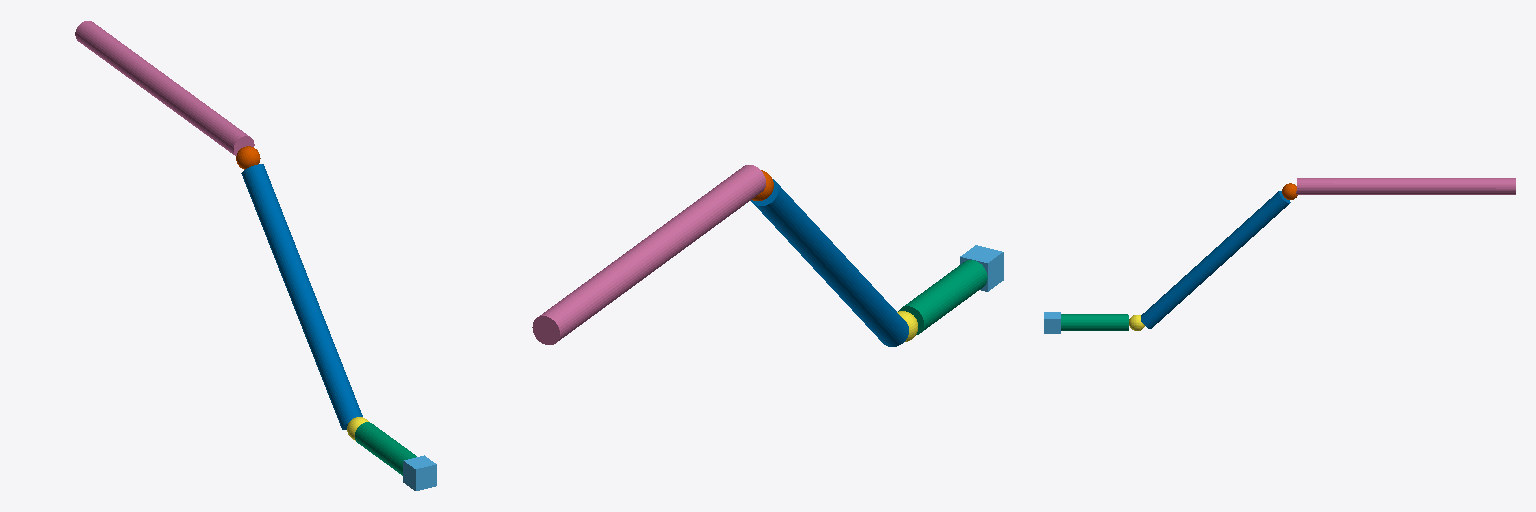
The robot description file, URDF, robot "Hexapod":
<?xml version="1.0" ?>
<!-- =================================================================================== -->
<!-- |    This document was autogenerated by xacro from Hexapoda.urdf.xacro            | -->
<!-- |    EDITING THIS FILE BY HAND IS NOT RECOMMENDED                                 | -->
<!-- =================================================================================== -->
<robot name="Hexapod">
  <gazebo reference="base_link">
    <material>Gazebo/Red</material>
  </gazebo>
  <gazebo reference="coxa_base_1">
    <material>Gazebo/Black</material>
  </gazebo>
  <gazebo reference="femur_base_1">
    <material>Gazebo/Black</material>
  </gazebo>
  <gazebo reference="tibia_base_1">
    <material>Gazebo/Black</material>
  </gazebo>
  <!-- 75mm taken cause 82mm was too outside of the base-->
  <link name="base_link">
    <inertial>
      <origin rpy="0.0 0.0 0.0" xyz="2.3553741432180777e-07 2.224092921723409e-05 0.003026303676307155"/>
      <mass value="0.7689223035628137"/>
      <inertia ixx="0.0010390137355587251" ixy="2.966445125900137e-10" ixz="-2.2246256263541832e-10" iyy="0.0010400150822437112" iyz="4.4983354420999026e-10" izz="0.0020742729104693478"/>
    </inertial>
    <visual>
      <origin rpy="0.0 0.0 0" xyz="0.0 0.0 0.0"/>
      <geometry>
        <!-- file:///$(find arm_03)/description/meshes/armA/armA_0.stl
                package://hexapod_rviz/meshes/Body.stl  -->
        <mesh filename="file:///[local-path]/ros2_sim/install/hexapod/share/hexapod/models/hexagon.stl" scale="0.001 0.001 0.001"/>
      </geometry>
    </visual>
    <collision>
      <origin rpy="0.0 0.0 0" xyz="0.0 0.0 0.0"/>
      <geometry>
        <mesh filename="file:///[local-path]/ros2_sim/install/hexapod/share/hexapod/models/hexagon.stl" scale="0.001 0.001 0.001"/>
      </geometry>
    </collision>
  </link>
  <link name="servo1_1">
    <visual>
      <origin rpy="0 0 0" xyz="0 0 0"/>
      <geometry>
        <box size="0.01 0.01 0.01"/>
      </geometry>
    </visual>
    <collision>
      <origin rpy="0 0 0" xyz="0 0 0"/>
      <geometry>
        <box size="0.01 0.01 0.01"/>
      </geometry>
    </collision>
    <inertial>
      <origin rpy="0.0 0.0 0.0" xyz="0 0 0"/>
      <mass value="0.07"/>
      <inertia ixx="1.1666666666666668e-06" ixy="0" ixz="0" iyy="1.1666666666666668e-06" iyz="0" izz="1.1666666666666668e-06"/>
    </inertial>
  </link>
  <joint name="servo_base_1" type="fixed">
    <parent link="base_link"/>
    <child link="servo1_1"/>
    <origin rpy="1.57 0 0.0" xyz="0.0 0.075 0.01"/>
  </joint>
  <link name="coxa_1">
    <visual>
      <origin rpy="0 0 0" xyz="0 0 -0.02"/>
      <geometry>
        <cylinder length="0.04" radius="0.005"/>
      </geometry>
    </visual>
    <collision>
      <origin rpy="0 0 0" xyz="0 0 -0.02"/>
      <geometry>
        <cylinder length="0.04" radius="0.005"/>
      </geometry>
    </collision>
    <inertial>
      <origin rpy="0 0 0" xyz="0 0 -0.02"/>
      <mass value="0.05"/>
      <inertia ixx="6.979166666666667e-06" ixy="0" ixz="0" iyy="6.979166666666667e-06" iyz="0" izz="6.25e-07"/>
    </inertial>
  </link>
  <joint name="coxa_base_1" type="revolute">
    <parent link="servo1_1"/>
    <child link="coxa_1"/>
    <!-- <origin xyz="${servo_length*d1} ${servo_length*d2} ${leg_radius*2}" rpy="1.57 ${pi * f} ${pi*ang}"/> -->
    <origin rpy="0 0.0 0.0" xyz="0.0 0.0 -0.005"/>
    <axis xyz="0 -1 0"/>
    <limit effort="100.0" lower="-0.7853981633974483" upper="0.7853981633974483" velocity="100.0"/>
  </joint>
  <link name="coxa_servo_1">
    <visual>
      <origin rpy="0 0 0" xyz="0 0 0"/>
      <geometry>
        <sphere radius="0.005"/>
      </geometry>
    </visual>
    <collision>
      <origin rpy="0 0 0" xyz="0 0 0"/>
      <geometry>
        <sphere radius="0.005"/>
      </geometry>
    </collision>
    <inertial>
      <origin rpy="0.0 0.0 0.0" xyz="0 0 0"/>
      <mass value="0.1"/>
      <inertia ixx="4.000000000000001e-06" ixy="0" ixz="0" iyy="4.000000000000001e-06" iyz="0" izz="4.000000000000001e-06"/>
    </inertial>
  </link>
  <joint name="coxa_servo_1" type="fixed">
    <parent link="coxa_1"/>
    <child link="coxa_servo_1"/>
    <origin rpy="0 0 0" xyz="0 0 -0.045"/>
  </joint>
  <link name="femur_1">
    <visual>
      <origin rpy="0 0 0" xyz="0 0 -0.0583"/>
      <geometry>
        <cylinder length="0.1166" radius="0.005"/>
      </geometry>
    </visual>
    <collision>
      <origin rpy="0 0 0" xyz="0 0 -0.0583"/>
      <geometry>
        <cylinder length="0.1166" radius="0.005"/>
      </geometry>
    </collision>
    <inertial>
      <origin rpy="0 0 0" xyz="0 0 -0.0583"/>
      <mass value="0.1"/>
      <inertia ixx="0.00011392133333333334" ixy="0" ixz="0" iyy="0.00011392133333333334" iyz="0" izz="1.25e-06"/>
    </inertial>
  </link>
  <joint name="femur_base_1" type="revolute">
    <parent link="coxa_servo_1"/>
    <child link="femur_1"/>
    <origin rpy="0.7853981633974483 0.0 0.0" xyz="0.0 0.0 -0.005"/>
    <axis xyz="-1 0 0"/>
    <limit effort="100.0" lower="-0.7853981633974483" upper="1.5707963267948966" velocity="100.0"/>
  </joint>
  <link name="femur_servo_1">
    <visual>
      <origin rpy="0 0 0" xyz="0 0 0"/>
      <geometry>
        <sphere radius="0.005"/>
      </geometry>
    </visual>
    <collision>
      <origin rpy="0 0 0" xyz="0 0 0"/>
      <geometry>
        <sphere radius="0.005"/>
      </geometry>
    </collision>
    <inertial>
      <origin rpy="0.0 0.0 0.0" xyz="0 0 0"/>
      <mass value="0.1"/>
      <inertia ixx="4.000000000000001e-06" ixy="0" ixz="0" iyy="4.000000000000001e-06" iyz="0" izz="4.000000000000001e-06"/>
    </inertial>
  </link>
  <joint name="femur_servo_1" type="fixed">
    <parent link="femur_1"/>
    <child link="femur_servo_1"/>
    <origin rpy="0 0 0" xyz="0 0 -0.1216"/>
  </joint>
  <link name="tibia_1">
    <visual>
      <origin rpy="0 0 0" xyz="0 0 -0.065"/>
      <geometry>
        <cylinder length="0.13" radius="0.005"/>
      </geometry>
    </visual>
    <collision>
      <origin rpy="0 0 0" xyz="0 0 -0.065"/>
      <geometry>
        <cylinder length="0.13" radius="0.005"/>
      </geometry>
    </collision>
    <inertial>
      <origin rpy="0 0 0" xyz="0 0 -0.065"/>
      <mass value="0.1"/>
      <inertia ixx="0.00014145833333333336" ixy="0" ixz="0" iyy="0.00014145833333333336" iyz="0" izz="1.25e-06"/>
    </inertial>
  </link>
  <joint name="tibia_base_1" type="revolute">
    <parent link="femur_servo_1"/>
    <child link="tibia_1"/>
    <origin rpy="-0.7853981633974483 0.0 0.0" xyz="0.0 0.0 -0.005"/>
    <axis xyz="-1 0 0"/>
    <limit effort="100.0" lower="-0.7853981633974483" upper="1.5707963267948966" velocity="100.0"/>
  </joint>
  <!-- <xacro:leg suffix="2" d1="-0.8661580944" d2="0.4997701026" ang="$(eval 1/3)" f="1"/>
    <xacro:leg suffix="3" d1="0.8661580944" d2="0.4997701026" ang="$(eval -1/3)" f="1"/>
    <xacro:leg suffix="4" d1="-0.8661580944" d2="-0.4997701026" ang="$(eval 2/3)" f="1"/>
    <xacro:leg suffix="5" d1="0.8661580944" d2="-0.4997701026" ang="$(eval -2/3)" f="1"/>
    <xacro:leg suffix="6" d1="0" d2="-1" ang="$(eval -1)" f="1"/> -->
</robot>

--- What the picture shows (computed from the rendered views, not written in the file) ---
Views: 3 orthographic renders of the robot side by side, from view 1: azimuth 30°, elevation 25°; view 2: azimuth 150°, elevation 25°; view 3: azimuth 270°, elevation 25°.
Robot: Hexapod — 7 links, 6 joints (3 revolute, 3 fixed); root link base_link; default pose: every joint at zero.
Visible links, largest first — view 1: femur_1, tibia_1, coxa_1, servo1_1; view 2: tibia_1, femur_1, coxa_1, servo1_1; view 3: tibia_1, femur_1, coxa_1.
Link boxes in pixels (bbox=[...]): femur_1: bbox=[241, 164, 362, 429]; tibia_1: bbox=[75, 21, 254, 155]; coxa_1: bbox=[355, 422, 416, 475]; servo1_1: bbox=[403, 455, 436, 490]; tibia_1: bbox=[532, 165, 765, 344]; femur_1: bbox=[751, 179, 908, 346]; coxa_1: bbox=[898, 260, 987, 334]; servo1_1: bbox=[960, 245, 1003, 291]; tibia_1: bbox=[1296, 178, 1515, 194]; femur_1: bbox=[1141, 191, 1290, 328]; coxa_1: bbox=[1061, 314, 1128, 330].
Size in the robot's own frame: 0.01 by 0.2796 by 0.0994 metres.
Geometry: only primitive shapes (box / cylinder / sphere) drawn; not drawn: 1 mesh visual (reference in a form the renderer does not follow).